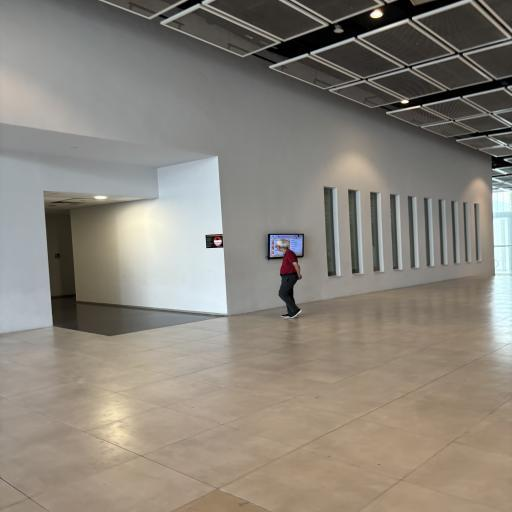person_left: (262, 239, 320, 322)
